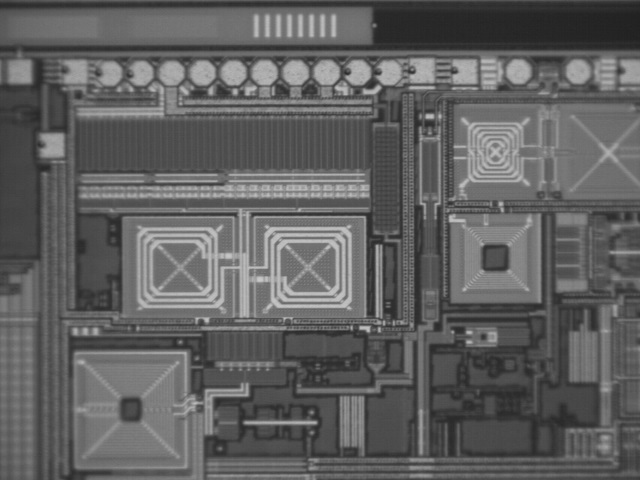shift: (32, 130, 68, 162), (54, 54, 90, 86), (90, 56, 126, 88), (122, 57, 158, 89), (339, 56, 375, 88), (369, 57, 405, 89), (402, 54, 438, 86), (447, 56, 483, 88), (611, 56, 640, 87)
